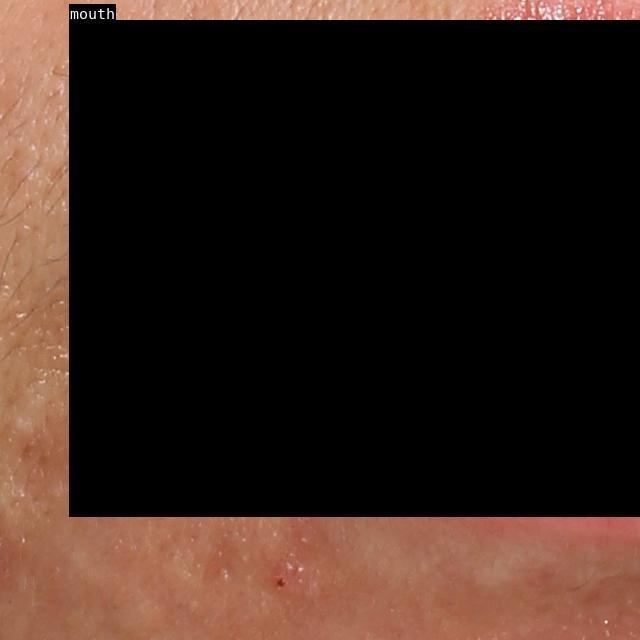hypertrophic_scar: (464, 541, 559, 590), (8, 406, 35, 440)
papule: (259, 558, 307, 603)
